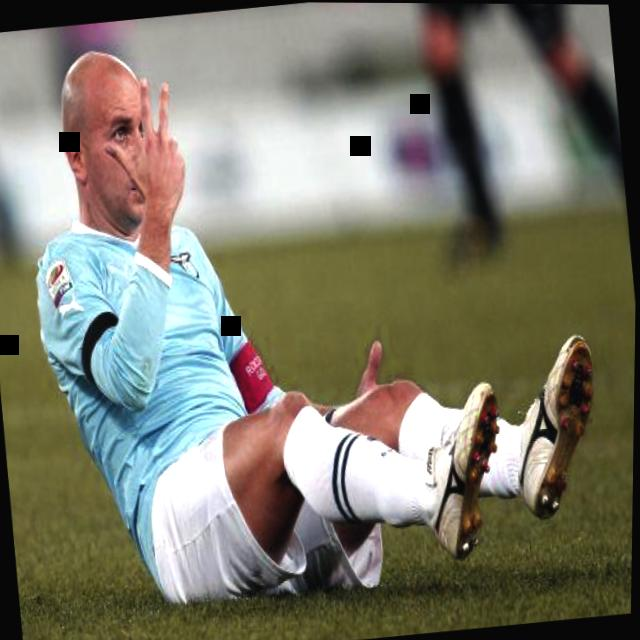Fall-Detected: (0, 0, 627, 634)
